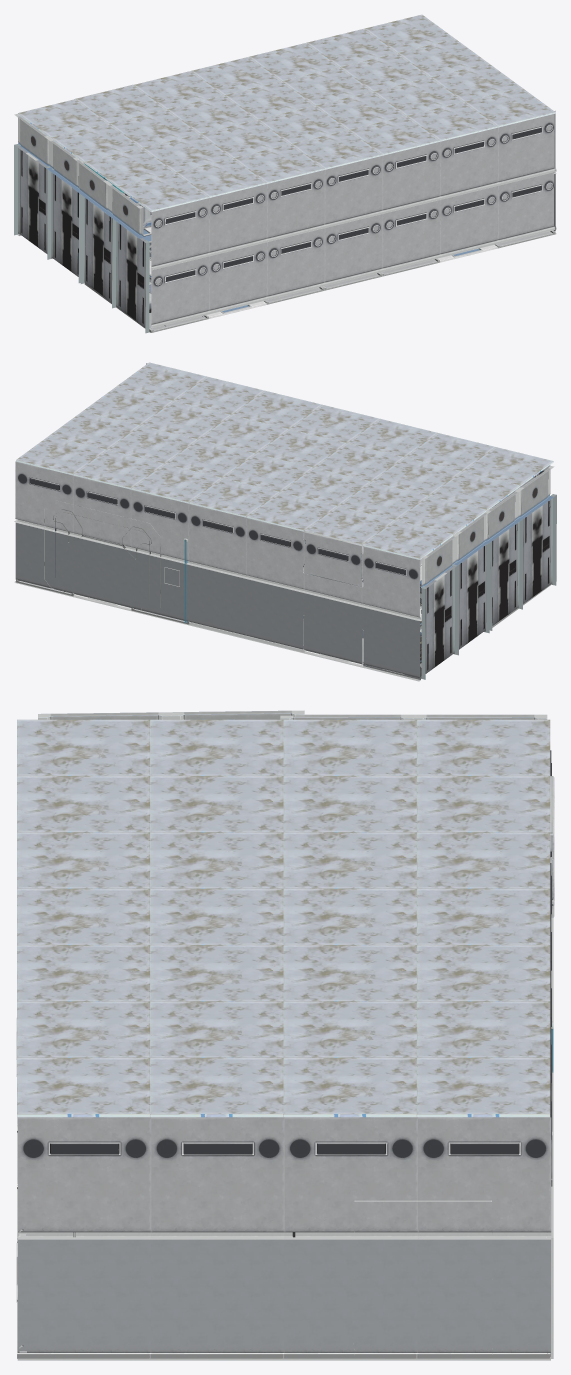
File: sci-fi_lab.glb
3 renders of one model, top to bottom at view 1: azimuth 30°, elevation 25°; view 2: azimuth 150°, elevation 25°; view 3: azimuth 270°, elevation 25°, orthographic. The views are drawn at different scales.
Parts seen in each view (by area): view 1: Object_15, Object_27, Object_8, Object_5, Object_29, Object_4; view 2: Object_15, Object_27, Object_30, Object_8, Object_5, Object_9, Object_29, Object_18, Object_4, Object_12; view 3: Object_15, Object_27, Object_30, Object_5, Object_29.
Boxes of the visible parts, x1,y1,x2,y2 form: Object_15: (18, 14, 555, 212); Object_27: (18, 110, 556, 328); Object_8: (14, 144, 204, 333); Object_5: (14, 113, 143, 238); Object_29: (84, 230, 555, 332); Object_4: (143, 227, 497, 318); Object_15: (16, 362, 553, 559); Object_27: (14, 363, 550, 620); Object_30: (14, 523, 420, 681); Object_8: (365, 494, 556, 679); Object_5: (421, 466, 554, 587); Object_9: (44, 502, 179, 611); Object_29: (16, 559, 551, 627); Object_18: (303, 530, 363, 664); Object_4: (73, 566, 421, 666); Object_12: (189, 622, 304, 652); Object_15: (17, 719, 550, 1117); Object_27: (18, 750, 553, 1352); Object_30: (17, 1238, 553, 1360); Object_5: (38, 710, 547, 719); Object_29: (17, 1117, 550, 1358).
Size of the model in its own units: 14.28 by 4.11 by 8.06.
Materials: 28 (26 with a texture image).
